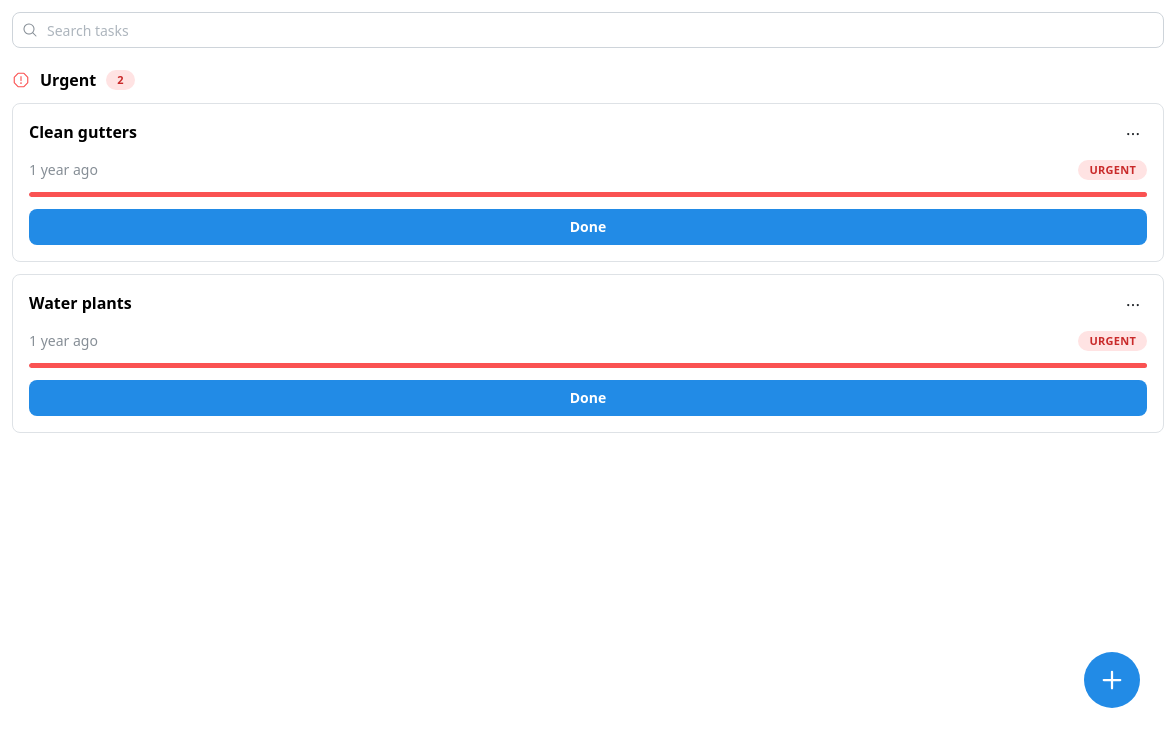
Test: TaskListView › filters the list by search query
Check: the text "Clean gutters" is shown, box x1=29 y1=120 x2=137 y2=145
Type "gutters" into the field with placeholder "Search tasks".
click(588, 30); type("gutters")  # box x1=12 y1=12 x2=1164 y2=48
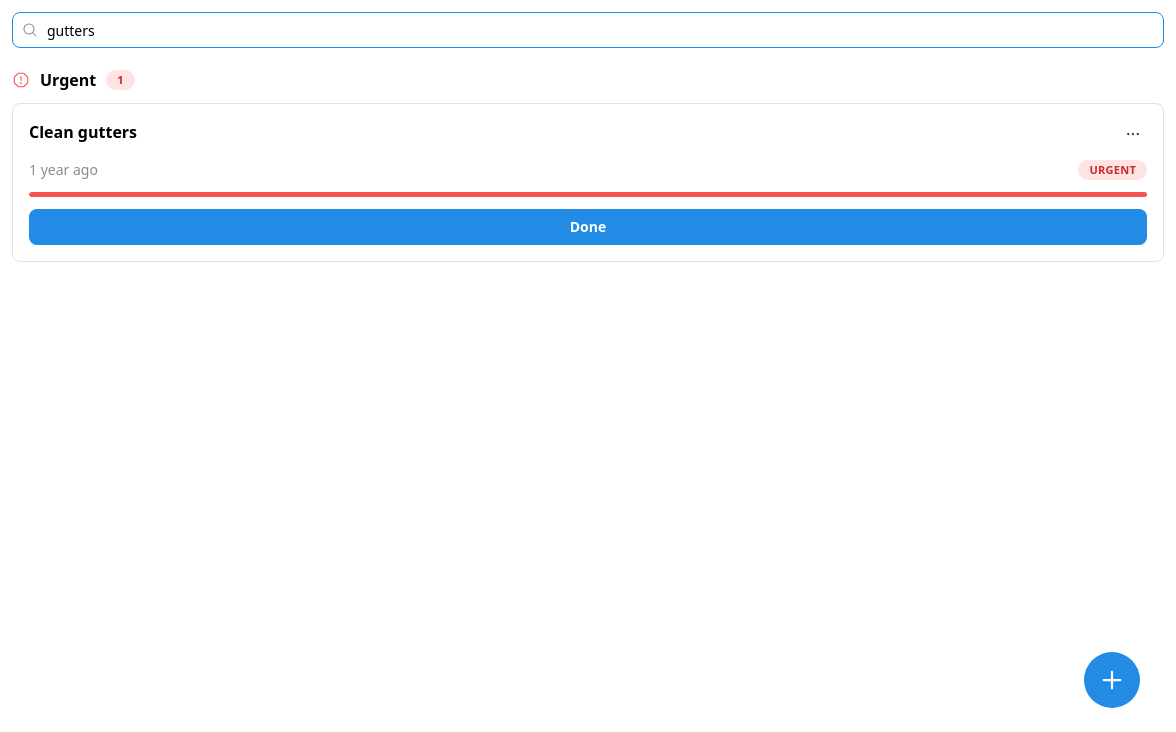
Check: the text "Clean gutters" is shown, box x1=29 y1=120 x2=137 y2=145
Check: the text "Water plants" is gone
